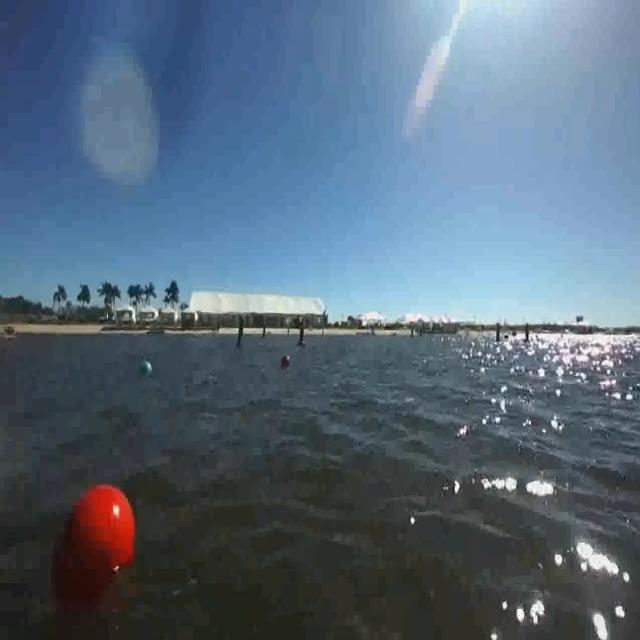black-buoy: (282, 353, 290, 368)
green-buoy: (142, 360, 152, 375)
green-column-buoy: (236, 316, 244, 347)
red-buoy: (36, 476, 150, 638)
red-column-buoy: (296, 320, 306, 348)
